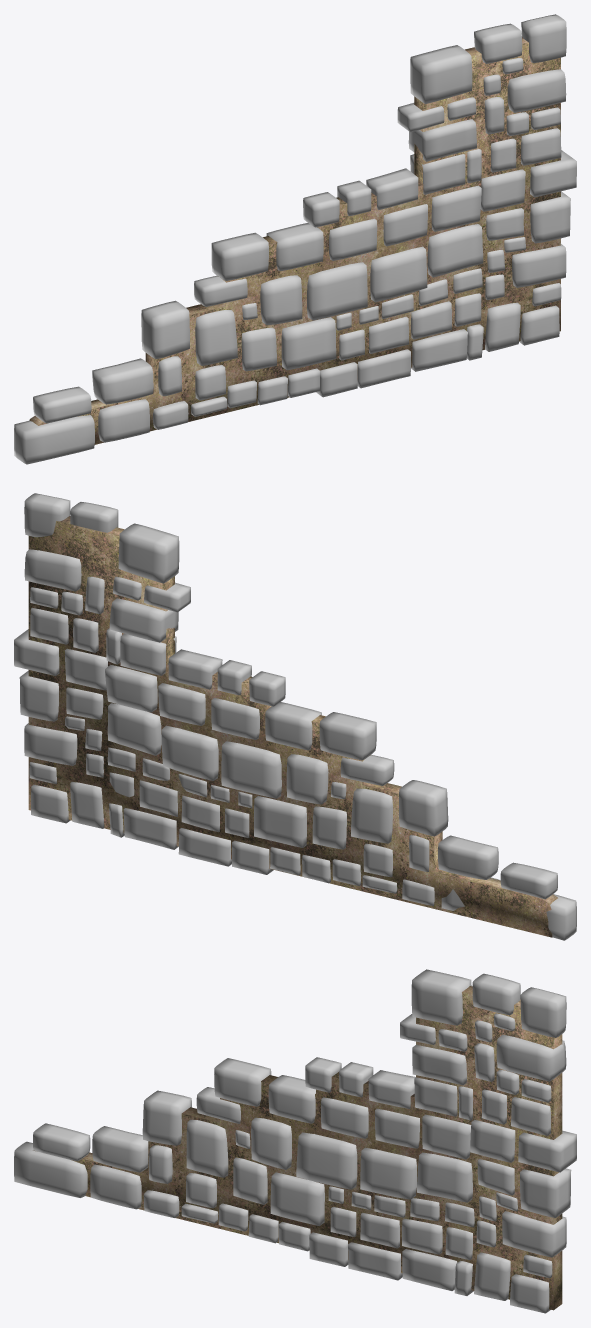
The model's file is RuinsWall_A.fbx.
3 views of the same model, one above another, from view 1: azimuth 30°, elevation 25°; view 2: azimuth 150°, elevation 25°; view 3: azimuth 330°, elevation 25° (orthographic).
Parts seen in each view (by area): view 1: RuinsWall_A; view 2: RuinsWall_A; view 3: RuinsWall_A.
Boxes of the visible parts, x1=… form: RuinsWall_A: x1=14, y1=14, x2=576, y2=464; RuinsWall_A: x1=14, y1=493, x2=576, y2=940; RuinsWall_A: x1=14, y1=969, x2=576, y2=1313.
Size of the model in its own units: 329 by 182 by 21.67.
